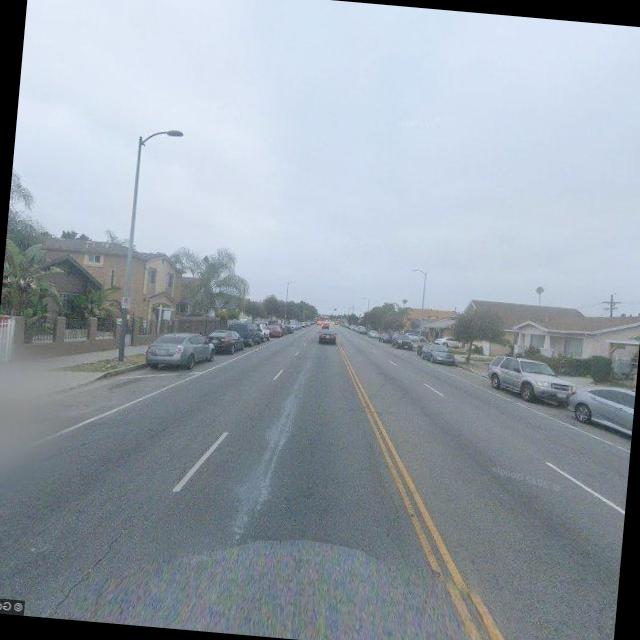crack: (39, 514, 135, 623)
